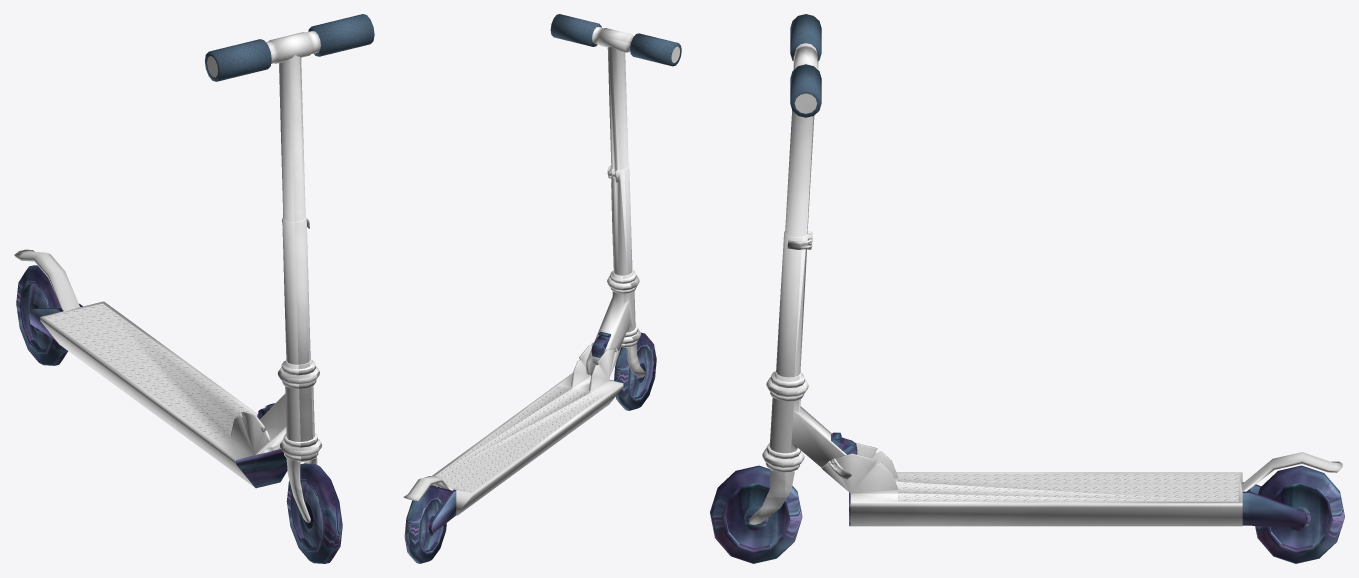
Rendered from ChildsScooter.fbx.
The picture shows the model from 3 angles, left to right: view 1: azimuth 30°, elevation 25°; view 2: azimuth 150°, elevation 25°; view 3: azimuth 270°, elevation 25°; orthographic projection. The views are drawn at different scales.
Visible parts, largest first — view 1: default; view 2: default; view 3: default.
Boxes of the visible parts, x1=… form: default: x1=14, y1=14, x2=374, y2=563; default: x1=403, y1=14, x2=681, y2=563; default: x1=710, y1=14, x2=1344, y2=563.
Bounding box in the file's own units: 36.43 × 115 × 130.
